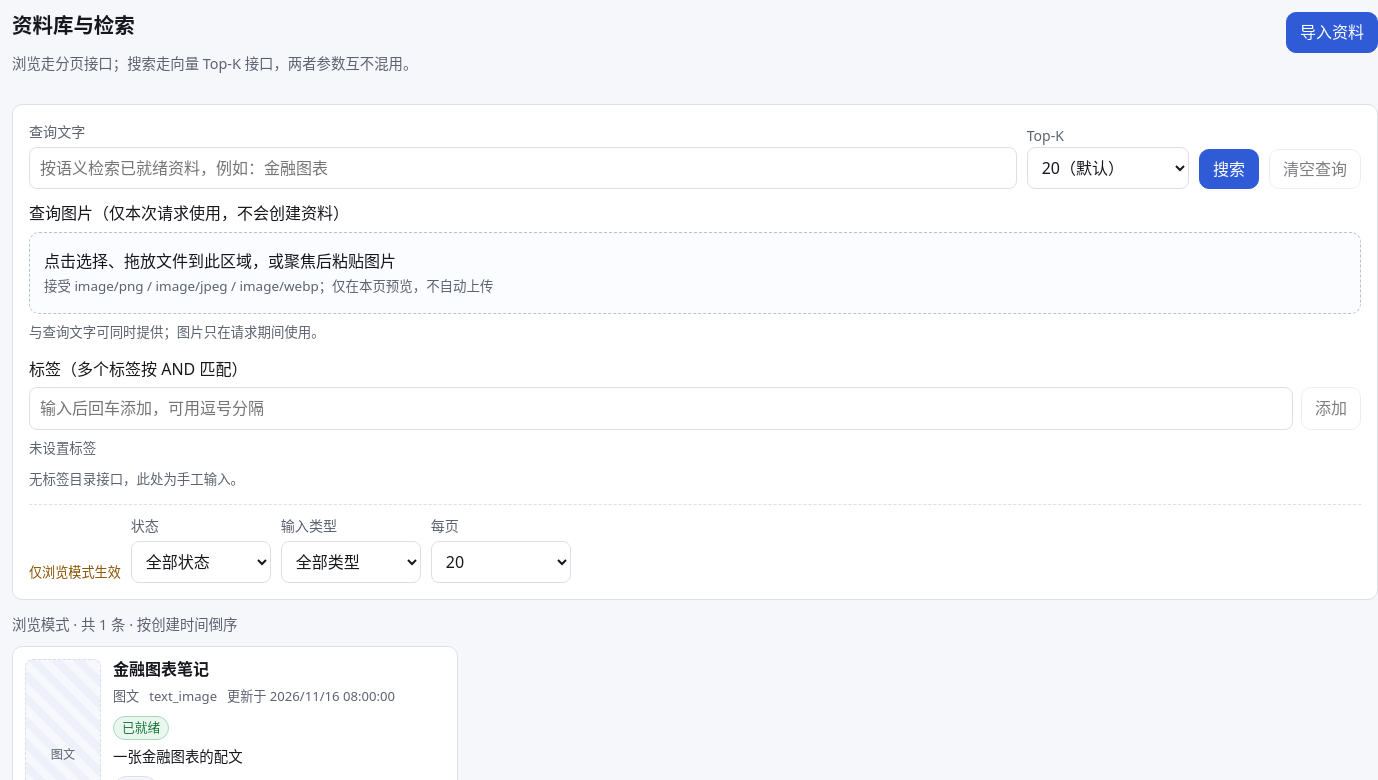
it: library page › switches to the search endpoint with its own params and shows cosine scores
Check: the link "金融图表笔记" is shown, box [113,658,209,680]
Select "已就绪" in the dropdown labelled "状态". click: (201, 562)
box: [131,541,271,583]
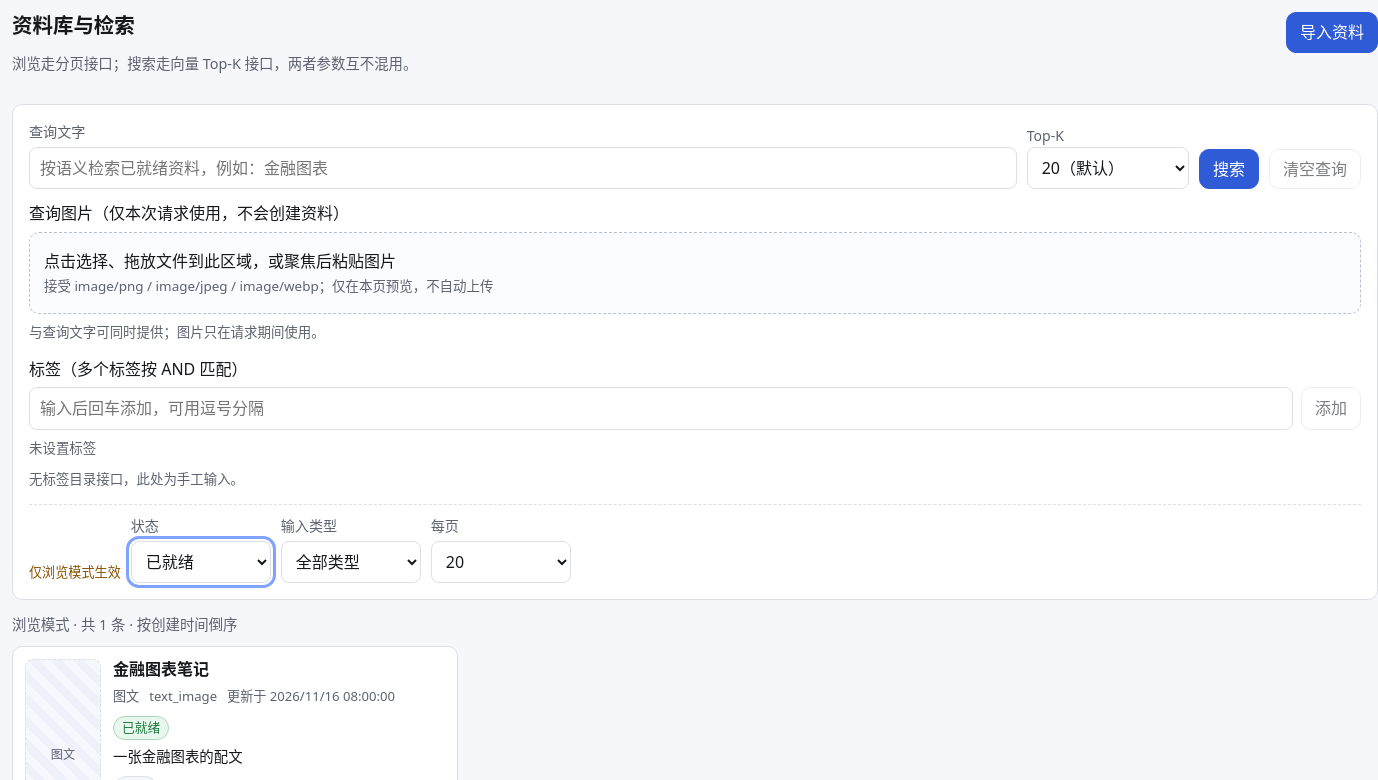
Type "金融图表" into the search field. click: (523, 168)
box: [29,146,1017,189]
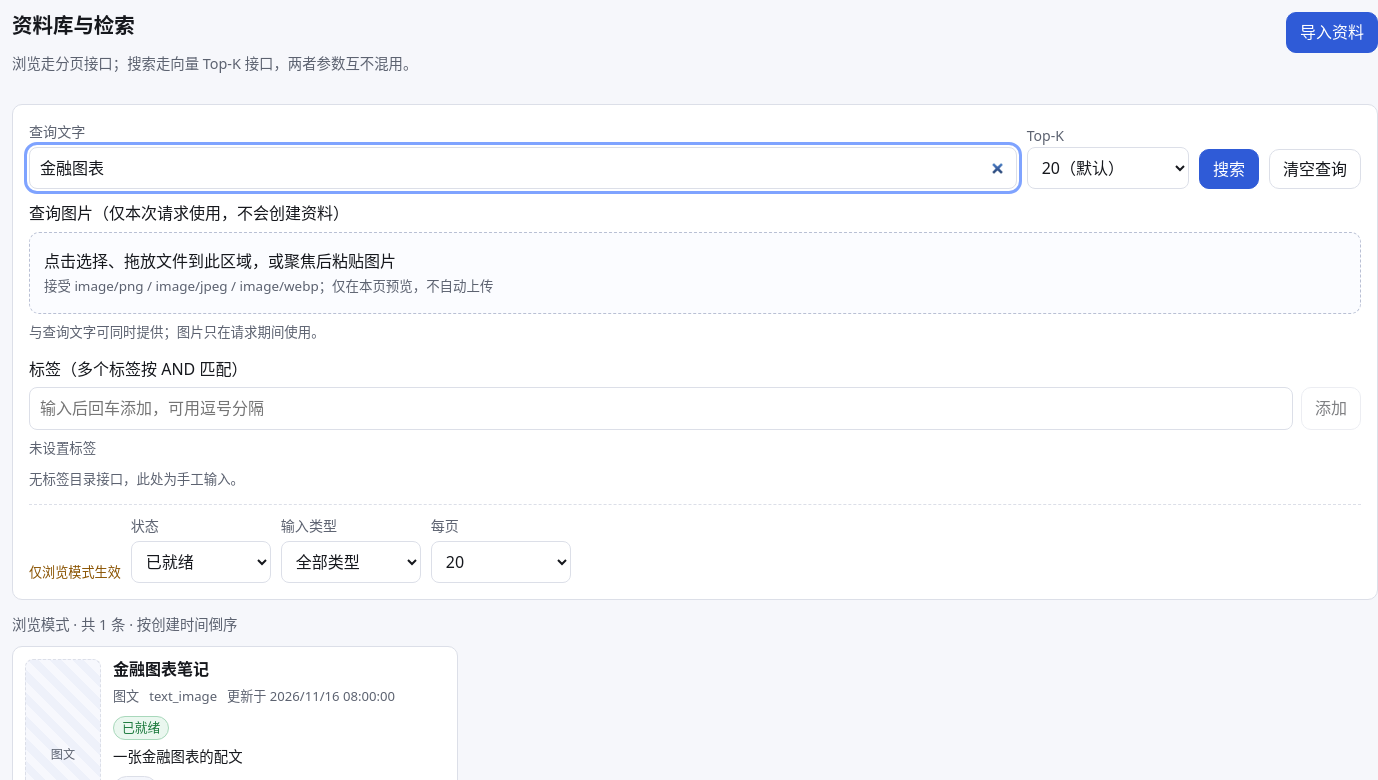
Click the button "搜索". click: click(1229, 169)
box: [1199,148,1259,189]
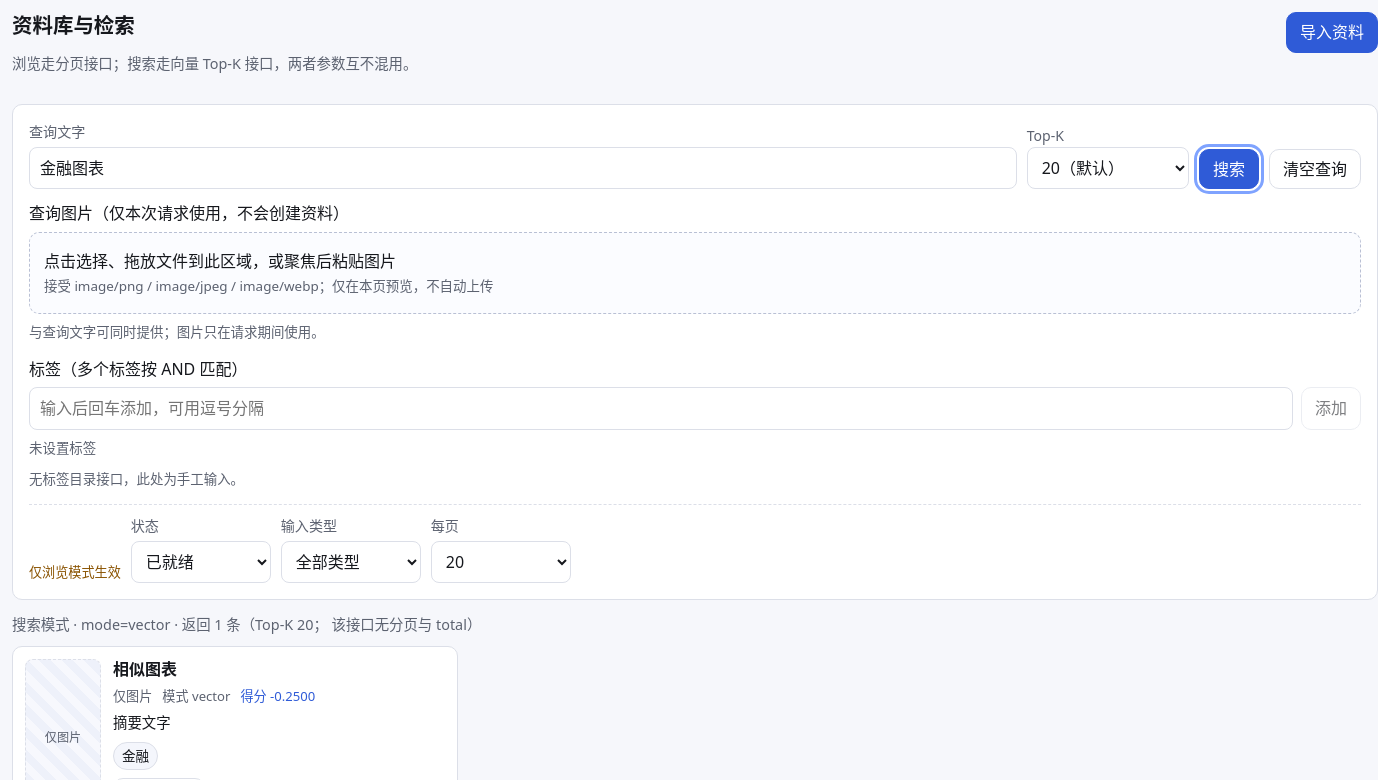
Check: the text "搜索模式 · mode=vector · 返回 1 条（Top-K 20； 该接口无分页与 total）" is shown, box [12,615,481,634]
Check: the text "得分 -0.2500" is shown, box [240,686,315,706]
Check: the text "浏览模式 ·" is gone
